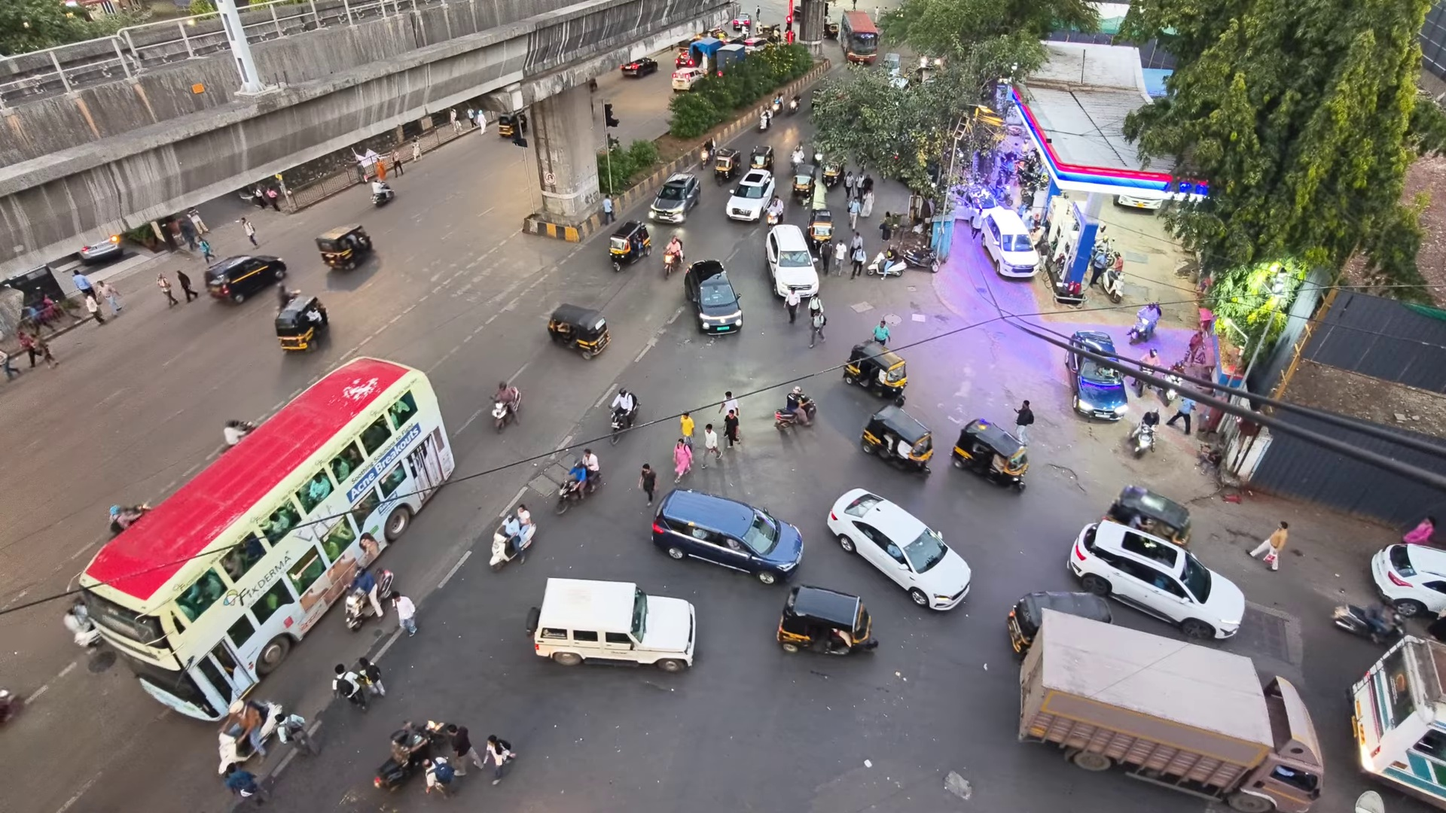walking: (444, 723, 485, 775), (1249, 521, 1288, 570), (274, 712, 317, 754), (332, 664, 368, 711), (224, 763, 264, 805), (17, 329, 57, 368), (486, 735, 516, 784), (423, 756, 456, 797), (357, 657, 384, 696), (1167, 397, 1195, 434), (392, 592, 415, 635), (673, 437, 693, 483), (700, 425, 721, 468), (96, 280, 122, 314), (1015, 400, 1034, 445), (176, 270, 199, 303), (176, 218, 198, 249), (72, 271, 96, 299), (639, 463, 655, 504), (831, 239, 848, 275), (809, 308, 825, 346), (725, 410, 740, 448), (187, 207, 208, 234), (83, 297, 104, 324), (785, 288, 801, 323), (859, 179, 873, 218), (851, 245, 867, 279), (0, 349, 18, 379), (719, 391, 740, 414), (680, 413, 694, 447), (240, 217, 256, 245), (848, 198, 862, 229), (198, 238, 215, 261), (264, 186, 279, 212), (873, 319, 889, 343), (880, 212, 892, 244), (391, 148, 404, 175), (602, 195, 614, 224), (844, 170, 855, 199), (450, 108, 462, 132), (411, 136, 421, 160)
